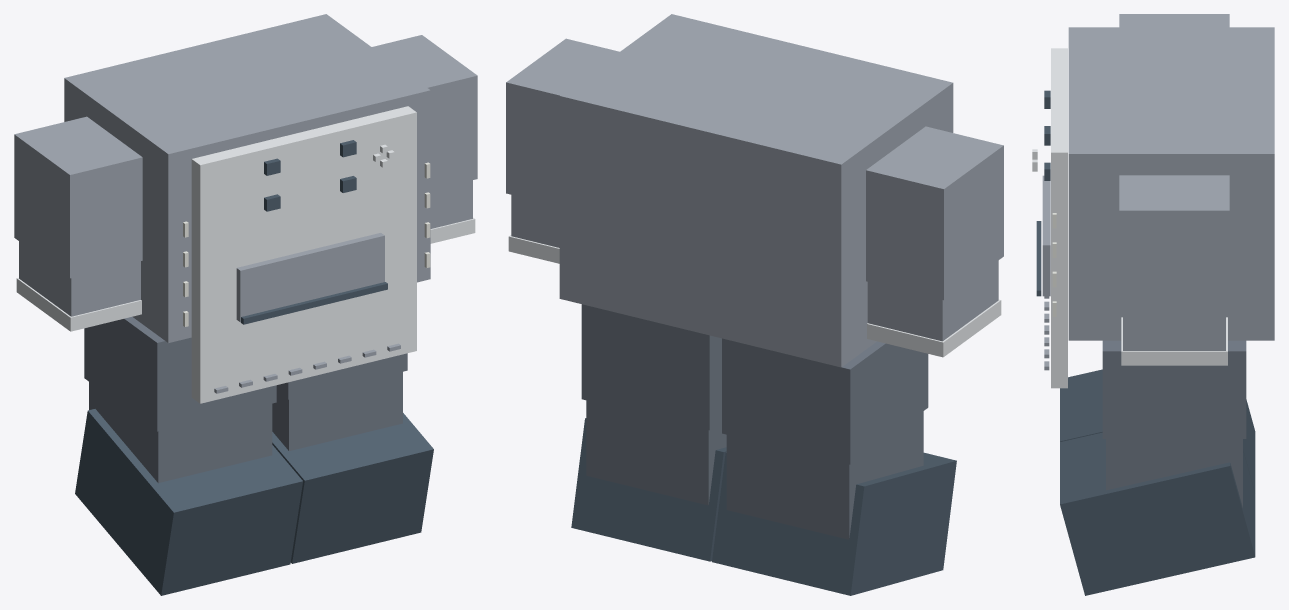
The model's file is chef-slate.glb.
3 renders of one model, left to right at view 1: azimuth 30°, elevation 25°; view 2: azimuth 150°, elevation 25°; view 3: azimuth 270°, elevation 25°, orthographic. The views are drawn at different scales.
Parts seen in each view (by area): view 1: apron, jacket, shoe-Right, upper-sleeve-Right, shoe-Left, trouser-Right, lower-trouser-Right, upper-sleeve-Left, apron-pocket, lower-trouser-Left, lower-sleeve-Right, trouser-Left (+4 smaller); view 2: jacket, upper-sleeve-Right, trouser-Right, shoe-Right, trouser-Left, lower-trouser-Right, lower-trouser-Left, upper-sleeve-Left, shoe-Left, lower-sleeve-Right, cuff-Right, lower-sleeve-Left (+1 smaller); view 3: jacket, shoe-Left, upper-sleeve-Left, trouser-Left, apron, lower-trouser-Left, lower-sleeve-Left, shoe-Right, cuff-Left, upper-sleeve-Right, apron-pocket, design-chef-apron-pocket-binding.
Part boxes in pixels (<box>): apron: <box>191,106,416,403</box>; jacket: <box>64,14,430,342</box>; shoe-Right: <box>75,409,302,595</box>; upper-sleeve-Right: <box>14,116,142,278</box>; shoe-Left: <box>272,413,433,563</box>; trouser-Right: <box>84,317,276,431</box>; lower-trouser-Right: <box>89,382,272,482</box>; upper-sleeve-Left: <box>372,35,477,190</box>; apron-pocket: <box>236,233,384,322</box>; lower-trouser-Left: <box>272,372,402,451</box>; lower-sleeve-Right: <box>19,241,140,316</box>; trouser-Left: <box>276,353,407,399</box>; jacket: <box>559,14,953,367</box>; upper-sleeve-Right: <box>866,126,1003,300</box>; trouser-Right: <box>722,338,928,464</box>; shoe-Right: <box>712,452,956,595</box>; trouser-Left: <box>581,304,721,430</box>; lower-trouser-Right: <box>726,411,923,539</box>; lower-trouser-Left: <box>586,400,726,505</box>; upper-sleeve-Left: <box>506,38,619,206</box>; shoe-Left: <box>571,418,726,561</box>; lower-sleeve-Right: <box>867,260,998,341</box>; cuff-Right: <box>867,299,1001,357</box>; lower-sleeve-Left: <box>511,195,559,247</box>; jacket: <box>1068,27,1274,340</box>; shoe-Left: <box>1060,432,1255,595</box>; upper-sleeve-Left: <box>1119,175,1229,312</box>; trouser-Left: <box>1102,340,1246,438</box>; apron: <box>1051,48,1067,388</box>; lower-trouser-Left: <box>1106,439,1242,507</box>; lower-sleeve-Left: <box>1123,312,1225,350</box>; shoe-Right: <box>1060,369,1255,493</box>; cuff-Left: <box>1121,317,1227,365</box>; upper-sleeve-Right: <box>1119,14,1229,27</box>; apron-pocket: <box>1042,175,1050,296</box>; design-chef-apron-pocket-binding: <box>1036,221,1041,296</box>.
Bounding box in the file's own units: 1.07 × 1.13 × 0.559.
